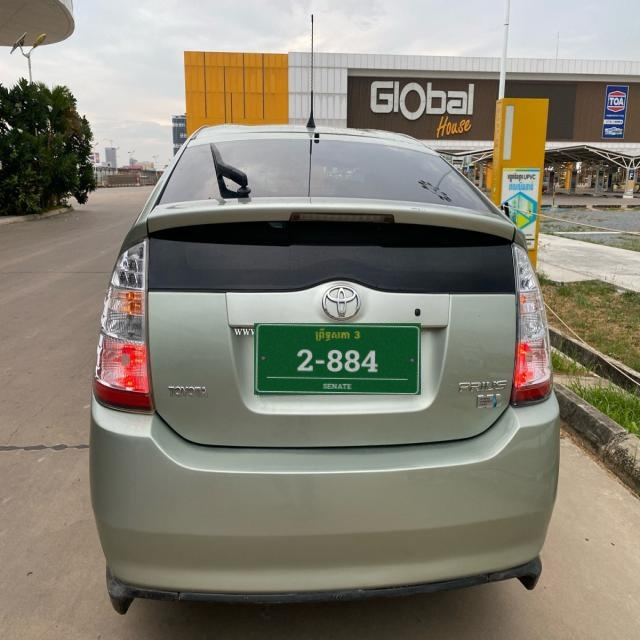Plate Number: (255, 323, 421, 395)
